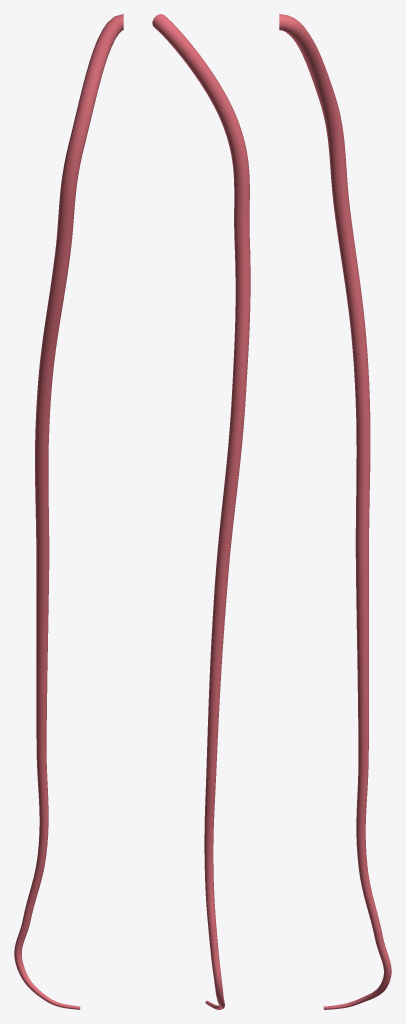
3 views of the same model, side by side, from view 1: azimuth 90°, elevation 25°; view 2: azimuth 210°, elevation 25°; view 3: azimuth 270°, elevation 25° (orthographic). The views are drawn at different scales.
Parts seen in each view (by area): view 1: ZA_2fb4803dc8cc75af; view 2: ZA_2fb4803dc8cc75af; view 3: ZA_2fb4803dc8cc75af.
Part boxes in pixels (x1,y1,x2,y2): ZA_2fb4803dc8cc75af: [14, 14, 123, 1009]; ZA_2fb4803dc8cc75af: [152, 14, 250, 1009]; ZA_2fb4803dc8cc75af: [279, 14, 391, 1009].
Bounding box in the file's own units: 0.0234 × 0.3214 × 0.0324.
